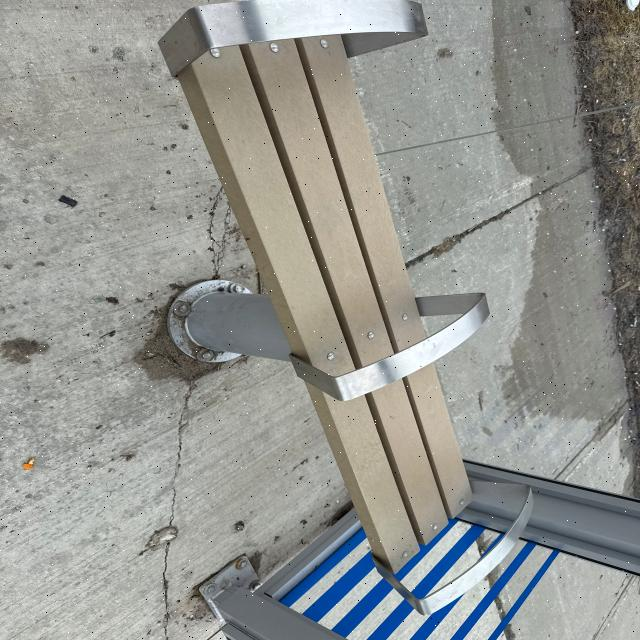Bench: (157, 11, 542, 568)
